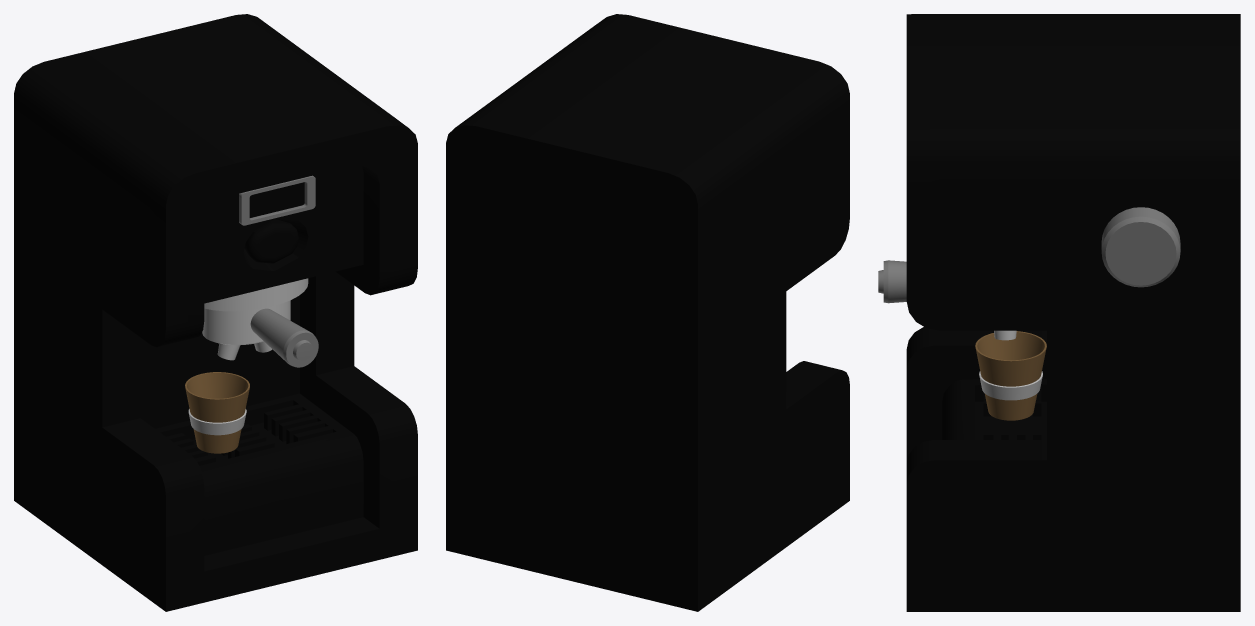
Rendered from CoffeeMaker.fbx.
3 views of the same model, side by side, from view 1: azimuth 30°, elevation 25°; view 2: azimuth 150°, elevation 25°; view 3: azimuth 270°, elevation 25° (orthographic). The views are drawn at different scales.
Visible parts, largest first — view 1: CoffeeMachine; view 2: CoffeeMachine; view 3: CoffeeMachine.
Boxes of the visible parts, x1,y1,x2,y2 form: CoffeeMachine: (14,14,417,611); CoffeeMachine: (446,14,849,611); CoffeeMachine: (878,14,1240,611).
Size of the model in its own units: 279 by 423 by 293.
